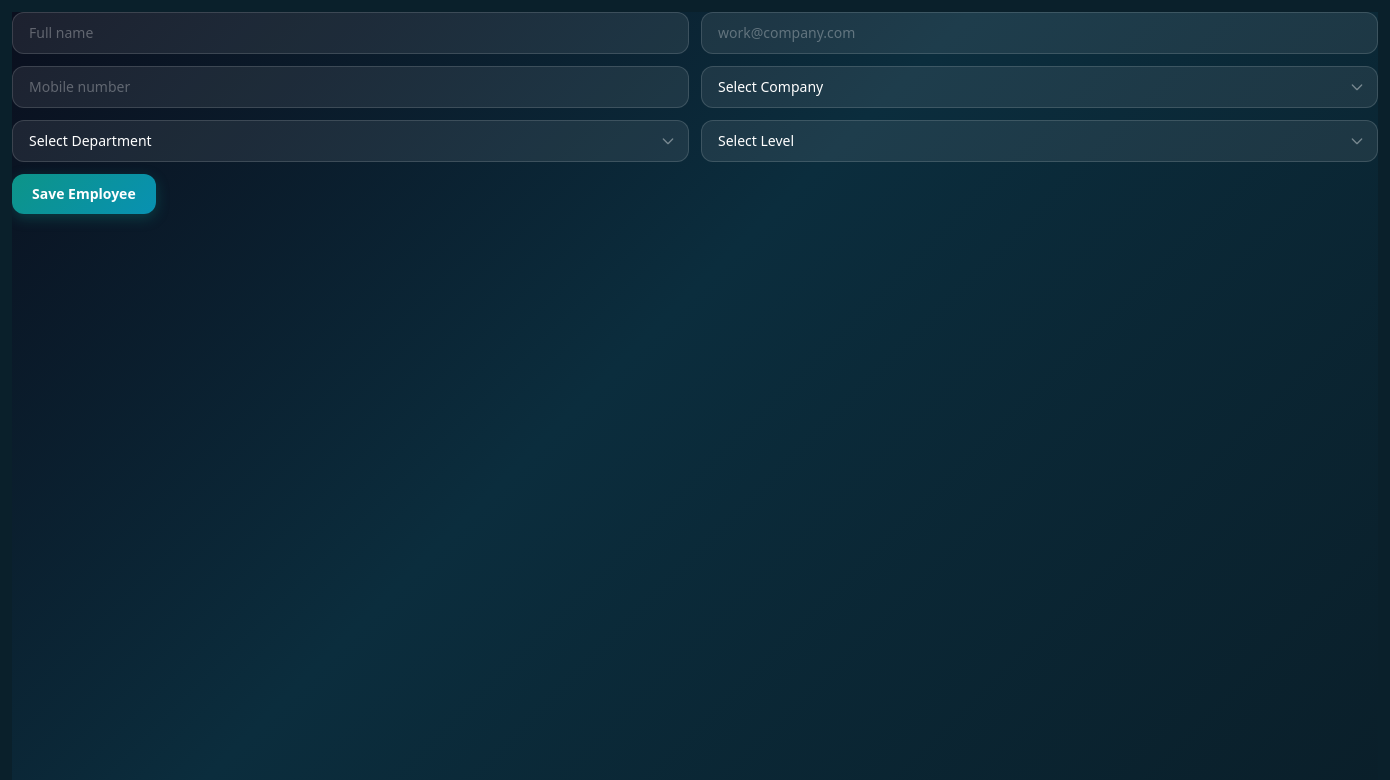
EmployeeForm › renders company options and shows a validation error when none is selected
Type "Jane Smith" into the field with placeholder "Full name".
click(350, 33); type("Jane Smith")  # box [12,12,689,54]
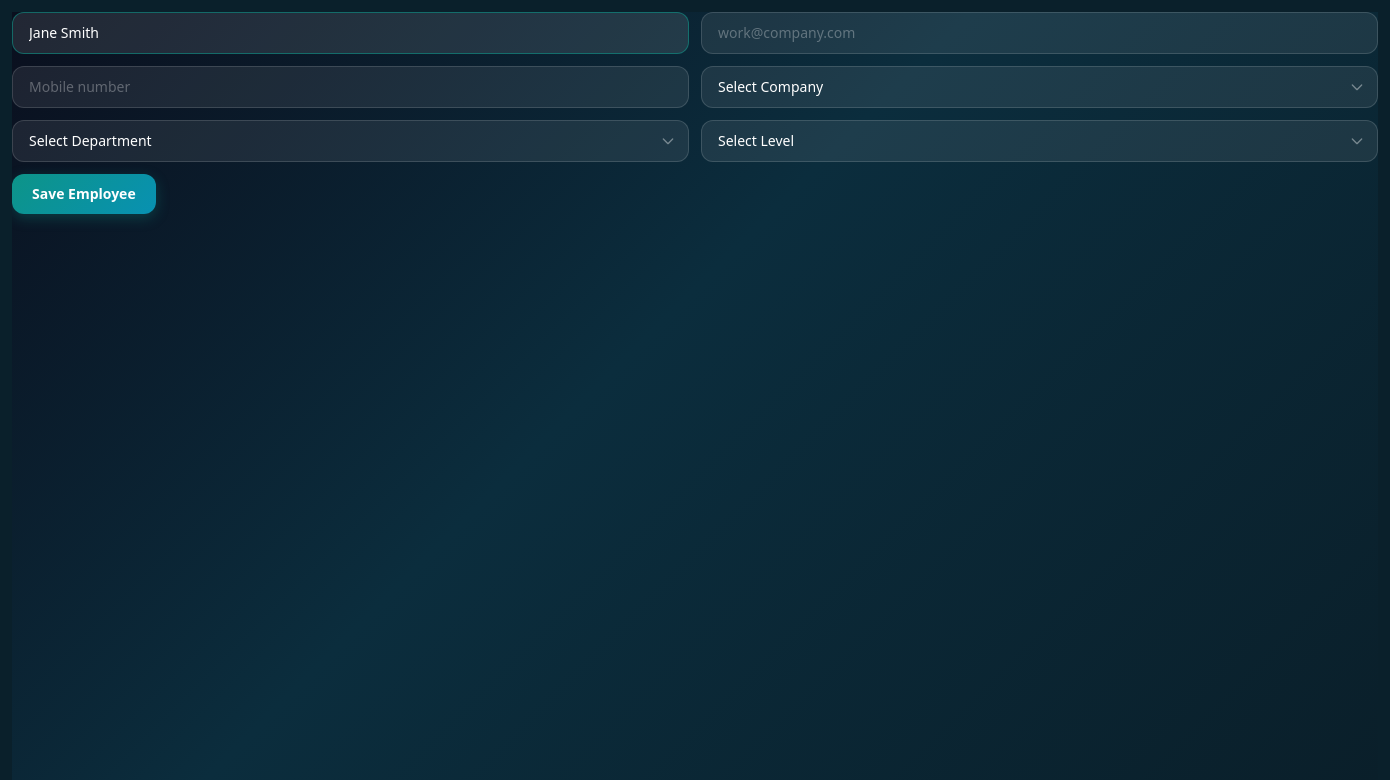
Type "jane@company.com" into the field with placeholder "work@company.com".
click(1040, 33); type("jane@company.com")  # box [701,12,1378,54]
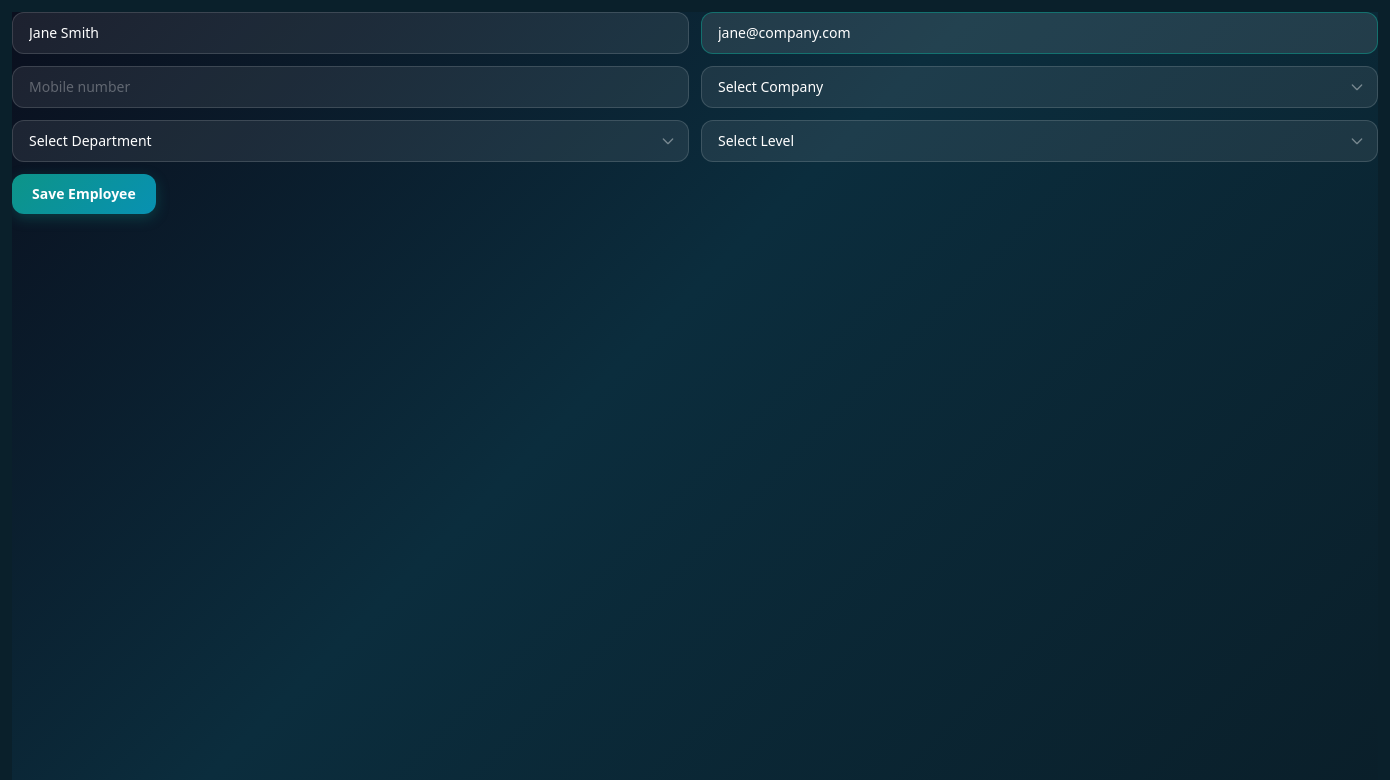
Type "9999999999" into the field with placeholder "Mobile number".
click(350, 87); type("9999999999")  # box [12,66,689,108]
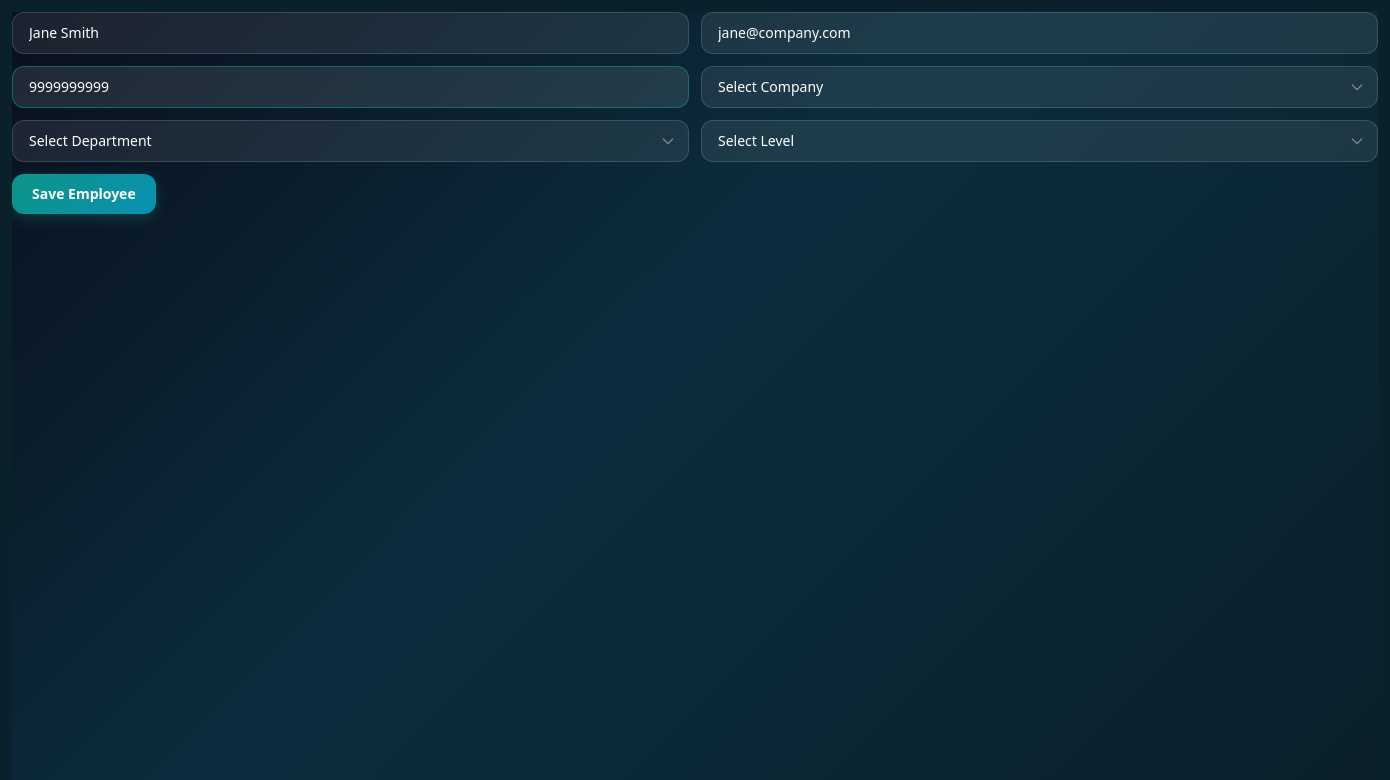
Click the button "Save Employee".
click(84, 194)  # box [12,174,156,214]
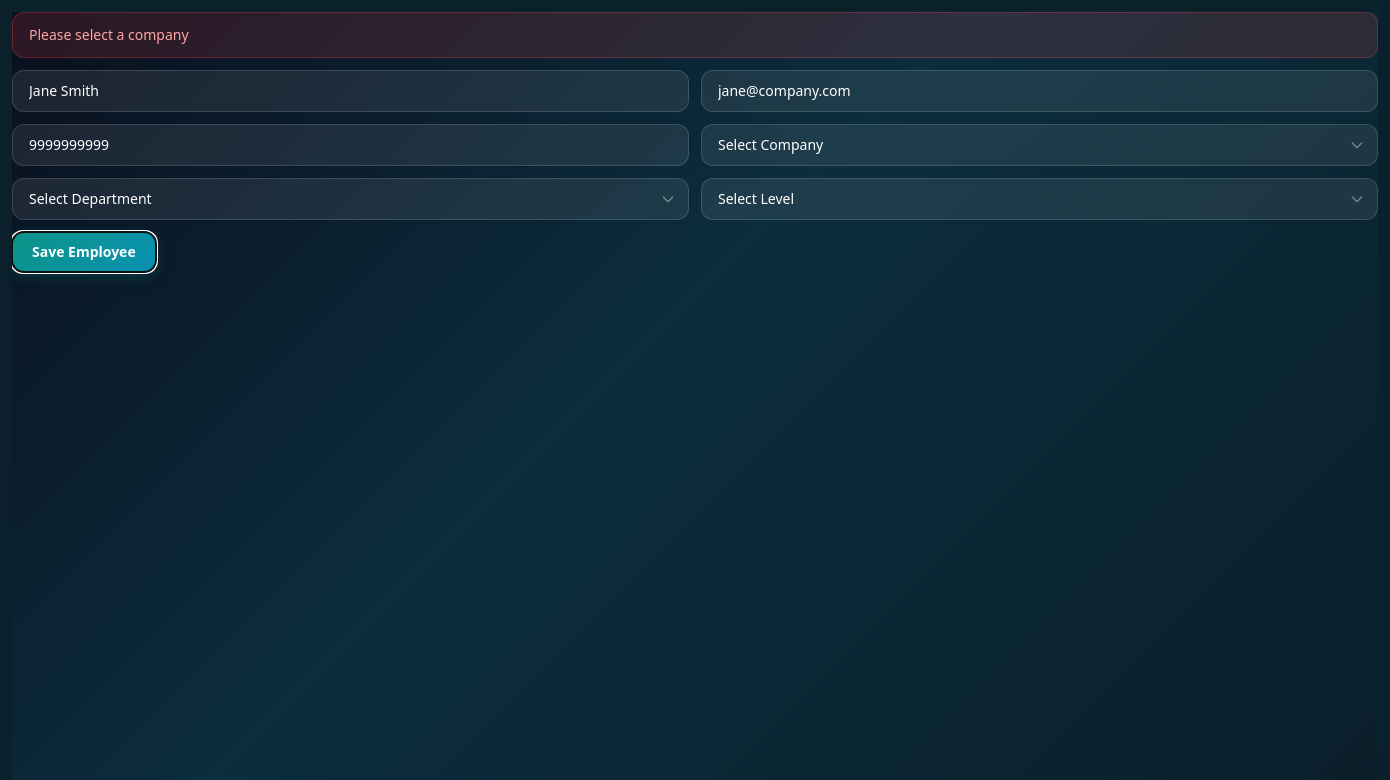
Result: the text "Please select a company" is shown at [12,12,1378,58]
